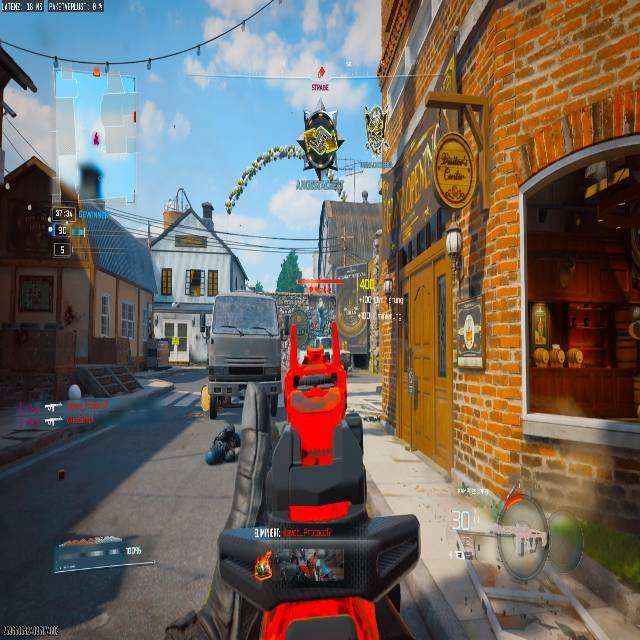head: (496, 498, 549, 577), (306, 107, 331, 128)
player: (464, 499, 639, 638), (297, 110, 344, 198)
